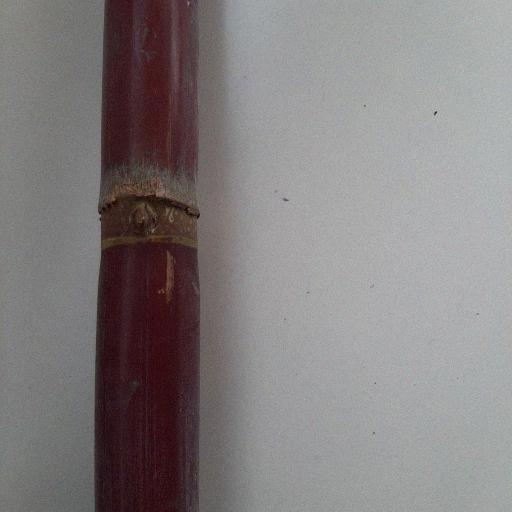Bud: (124, 201, 158, 236)
